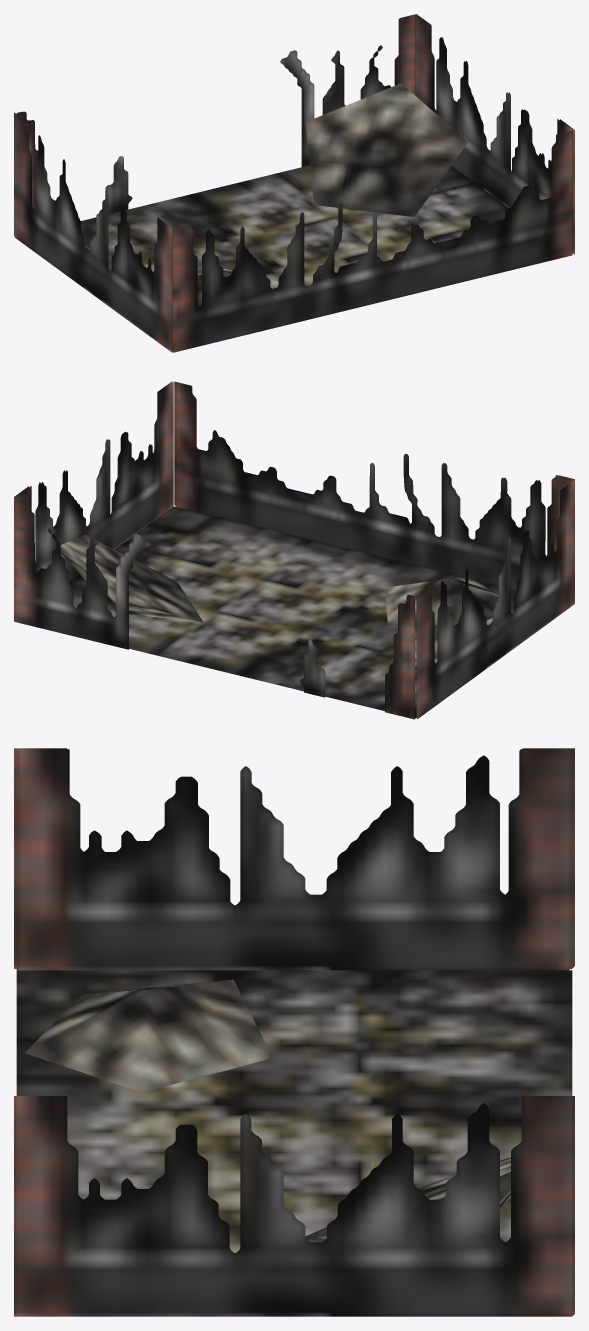
The model's file is relaystation_dam.glb.
3 views of the same model, one above another, from view 1: azimuth 30°, elevation 25°; view 2: azimuth 150°, elevation 25°; view 3: azimuth 270°, elevation 25° (orthographic). The views are drawn at different scales.
Visible parts, largest first — view 1: RelayStationDam; view 2: RelayStationDam; view 3: RelayStationDam.
Boxes of the visible parts, x1,y1,x2,y2 form: RelayStationDam: (14, 14, 574, 352); RelayStationDam: (14, 381, 574, 719); RelayStationDam: (14, 748, 574, 1316).
Bounding box in the file's own units: 8.15 × 2.42 × 5.55.
1 material, 1 textured.
